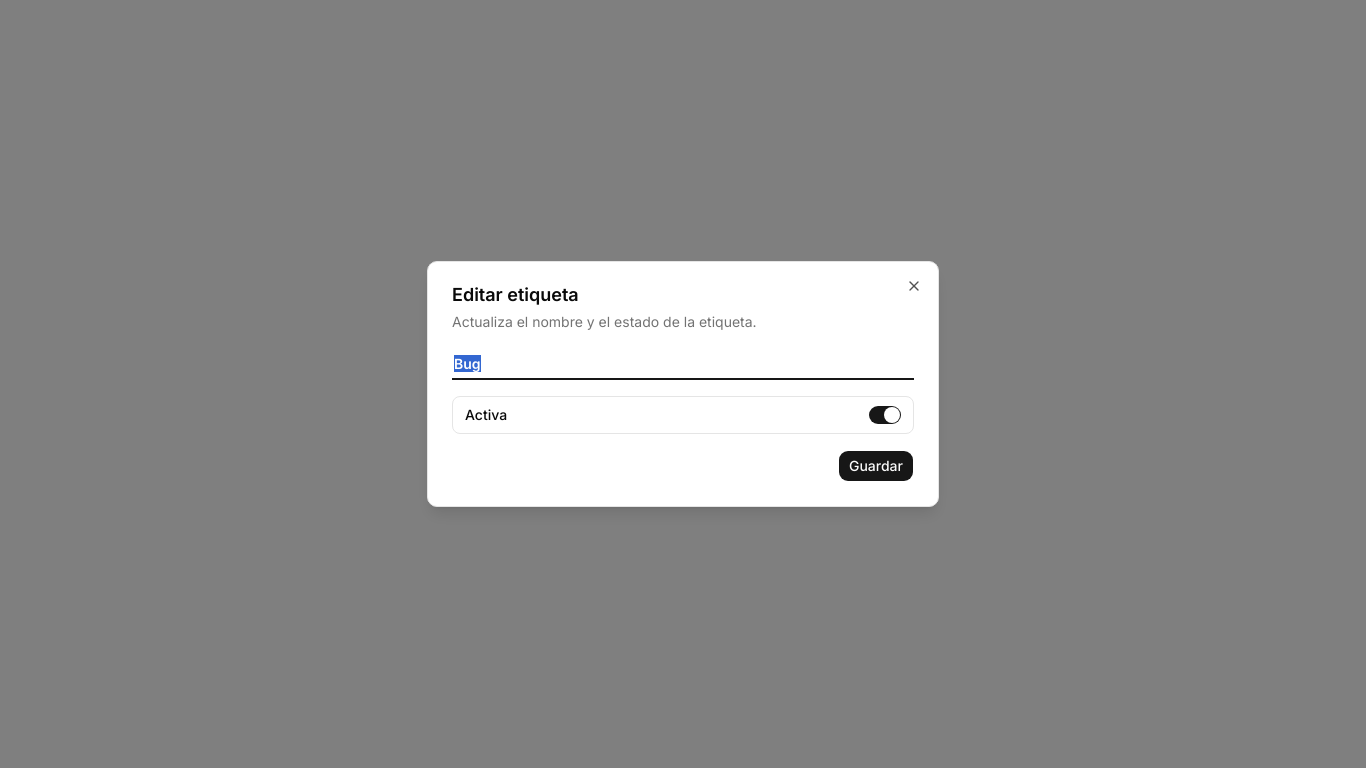
Test: EditLabelForm › shows server error when updateAction fails
The width and height of the screenshot is (1366, 768).
Click the button "Guardar": (876,466) [838,450,914,482]
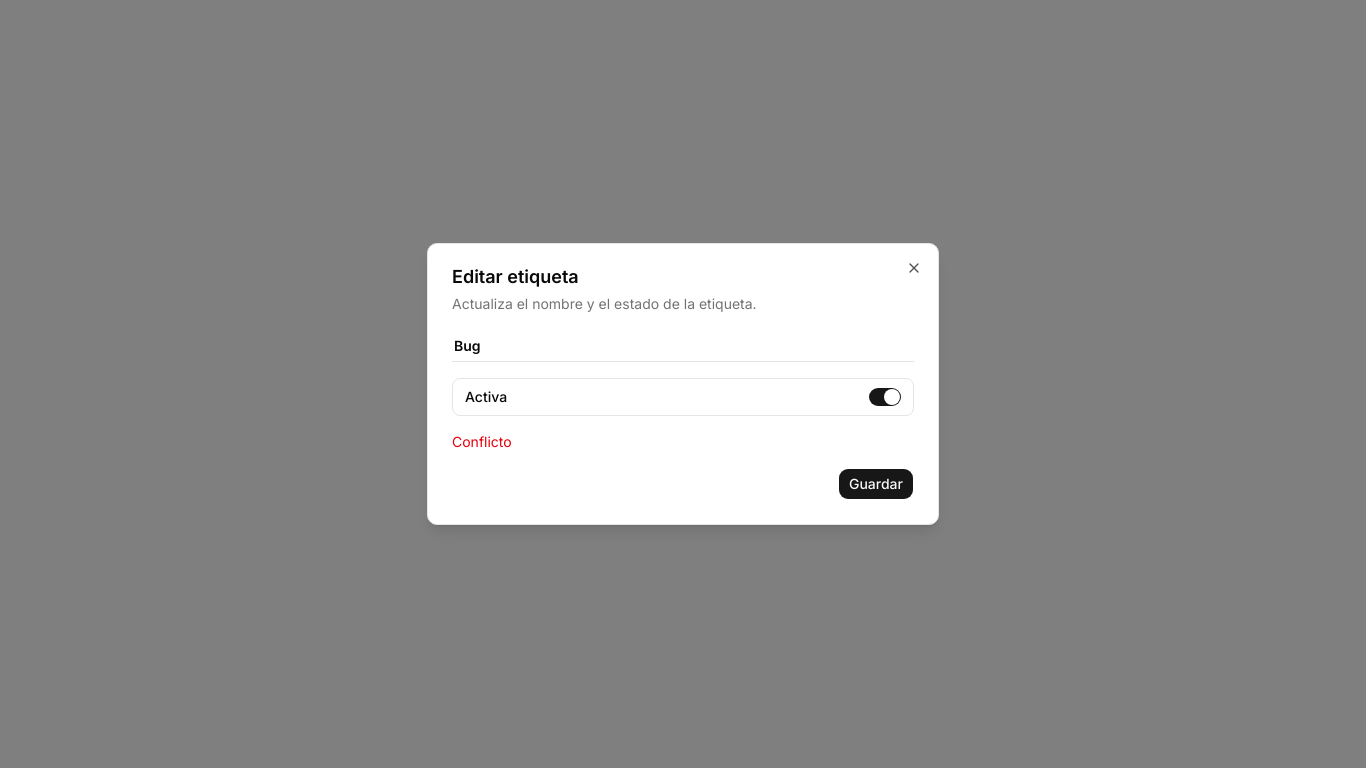
Check: the text "Conflicto" is shown, box [452,433,512,450]
